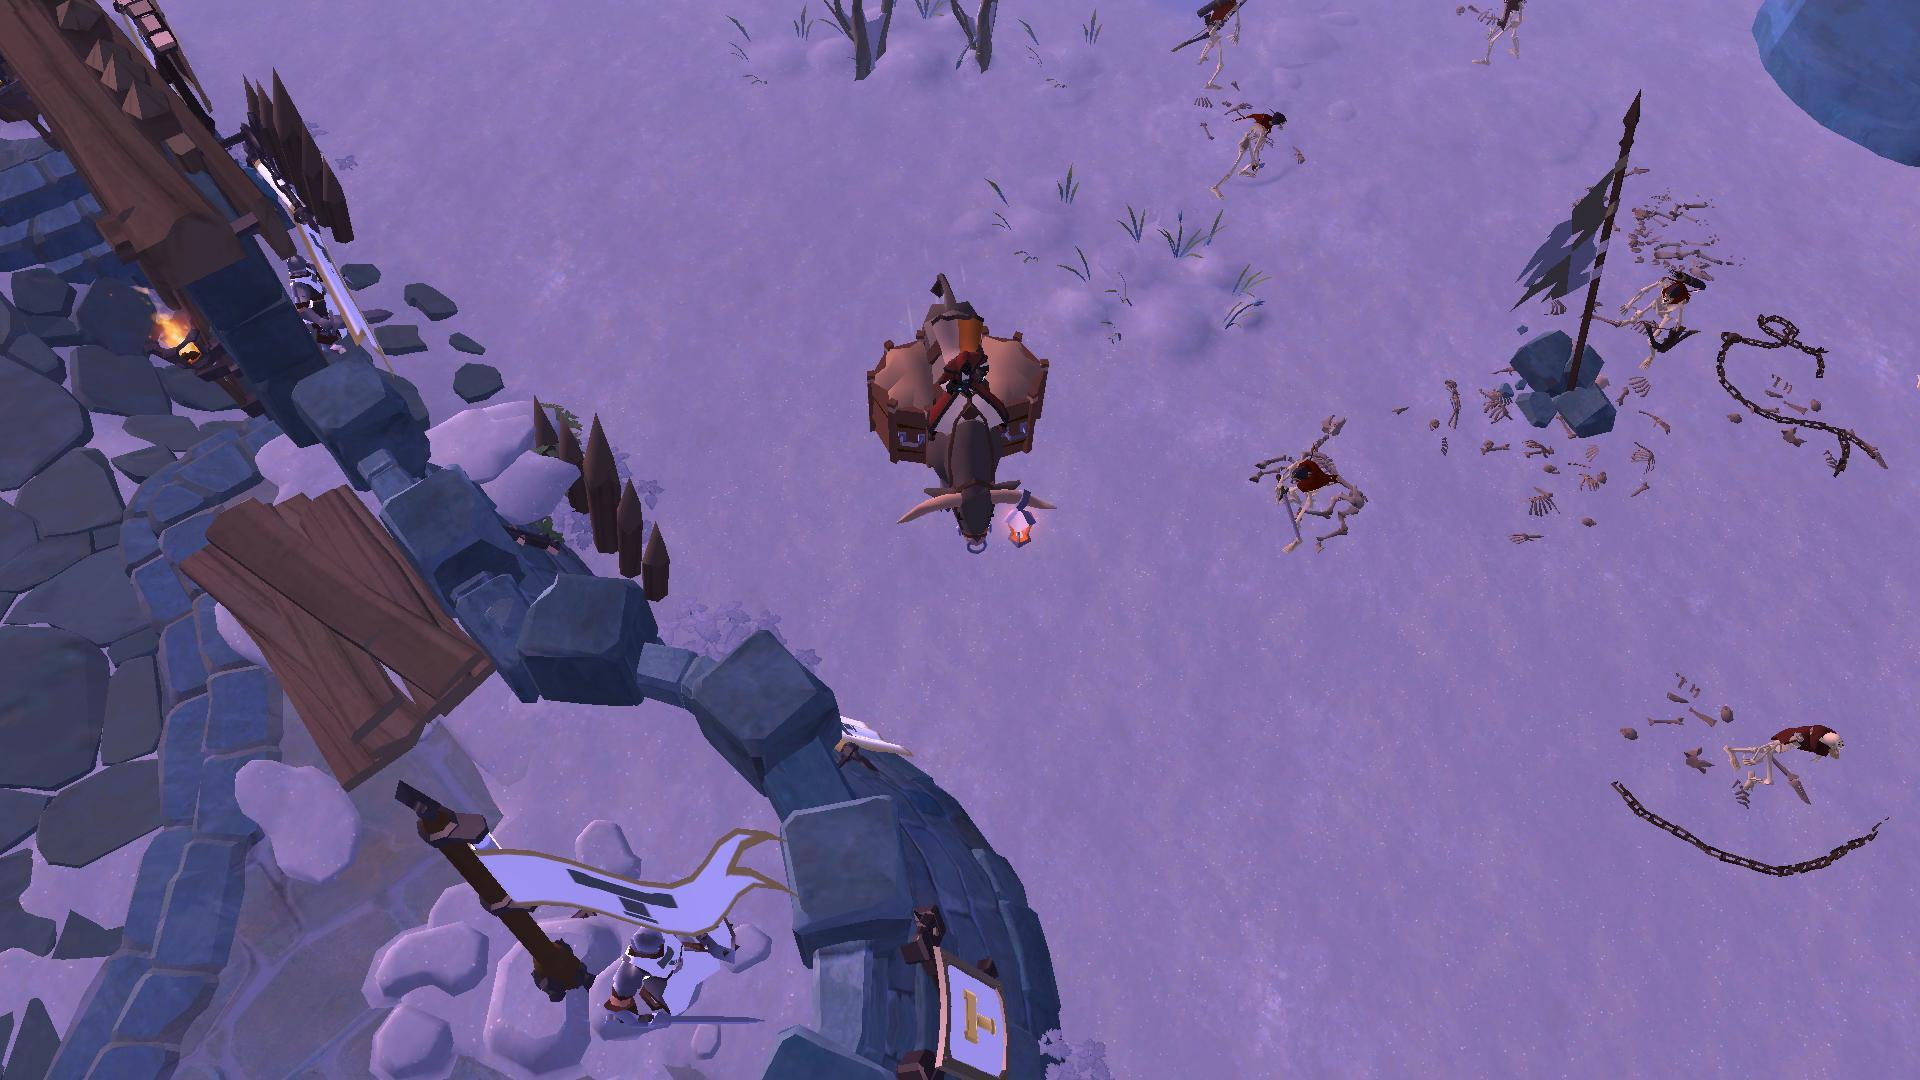enemy_factionUndead: (1729, 708, 1849, 793), (1622, 265, 1712, 369), (1211, 98, 1288, 196), (1187, 0, 1247, 100), (1472, 0, 1531, 70)
